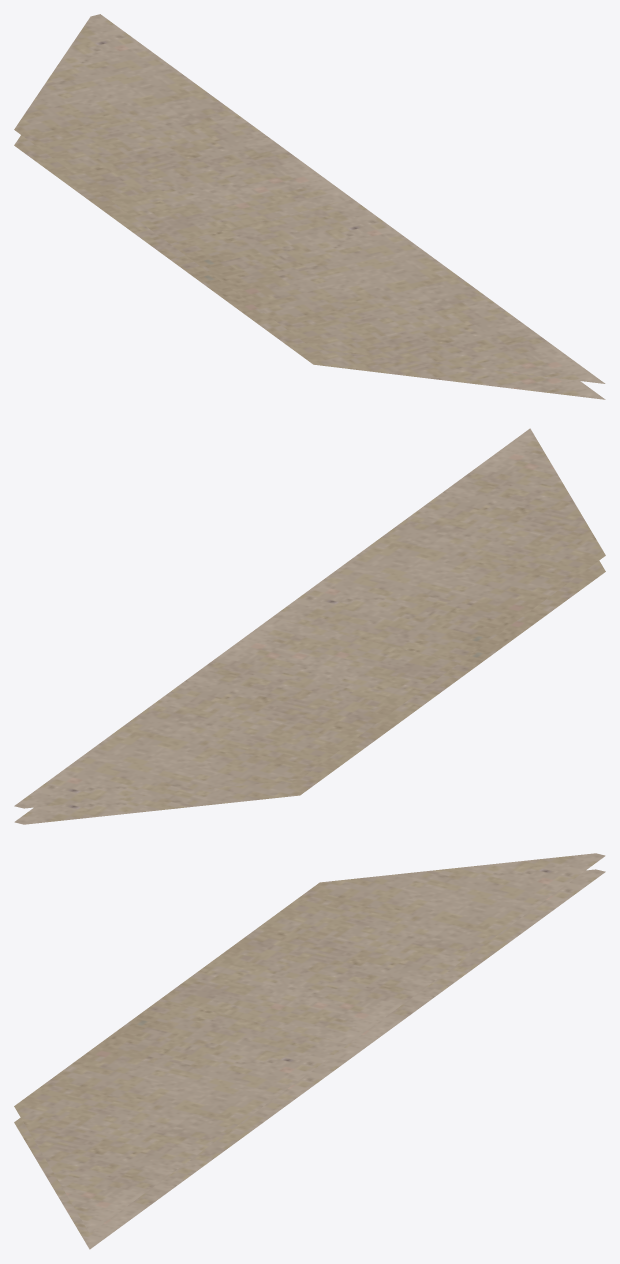
File: Ceiling_Wardenroom.fbx
3 renders of one model, top to bottom at view 1: azimuth 30°, elevation 25°; view 2: azimuth 150°, elevation 25°; view 3: azimuth 330°, elevation 25°, orthographic. The views are drawn at different scales.
Parts seen in each view (by area): view 1: Ceiling_Wardenroom; view 2: Ceiling_Wardenroom; view 3: Ceiling_Wardenroom.
Part boxes in pixels (x1,y1,x2,y2): Ceiling_Wardenroom: (14,14,605,399); Ceiling_Wardenroom: (14,428,605,824); Ceiling_Wardenroom: (14,853,605,1249).
Size of the model in its own units: 2.49 by 0.2052 by 11.91.
